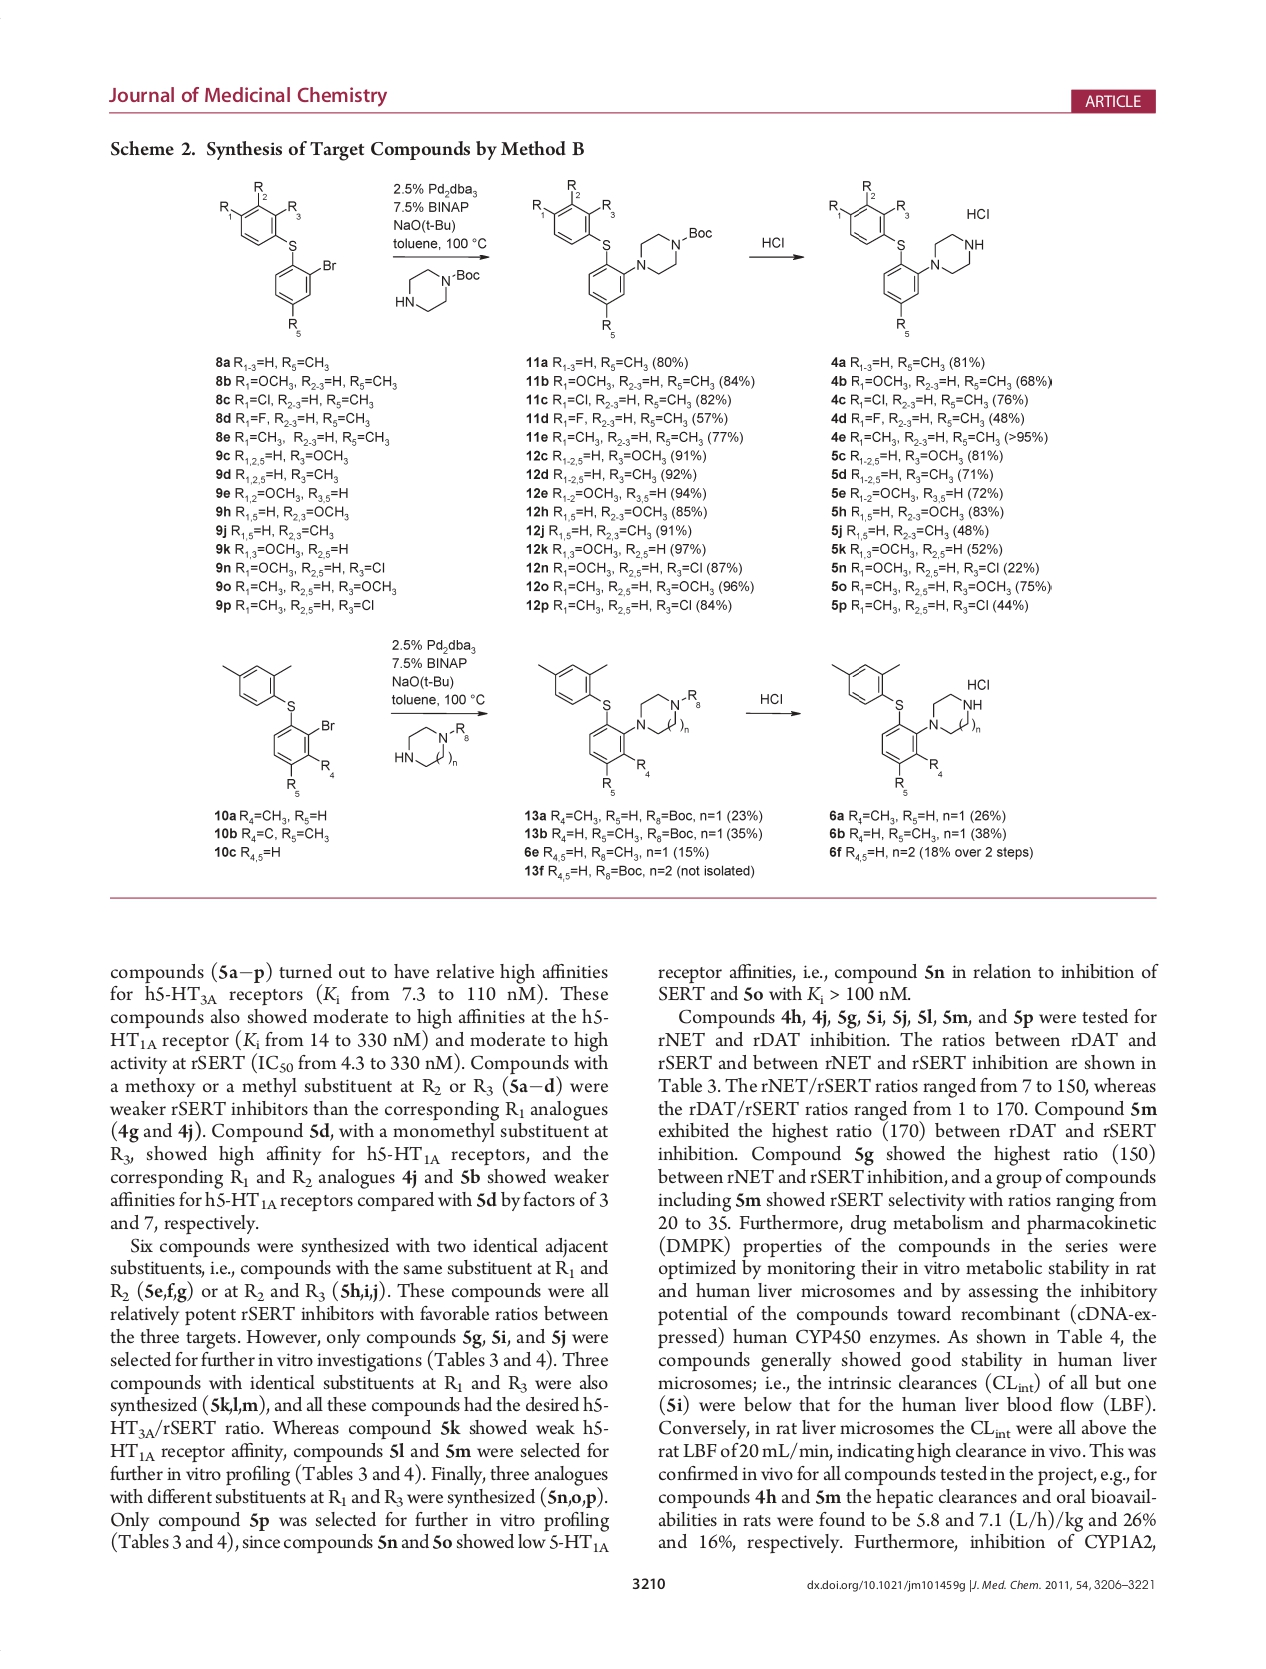exist_molecular: (529, 176, 715, 340), (824, 180, 991, 339), (533, 657, 703, 797), (828, 660, 992, 799), (215, 176, 340, 340), (219, 656, 342, 799), (392, 267, 481, 315), (391, 719, 469, 773)
